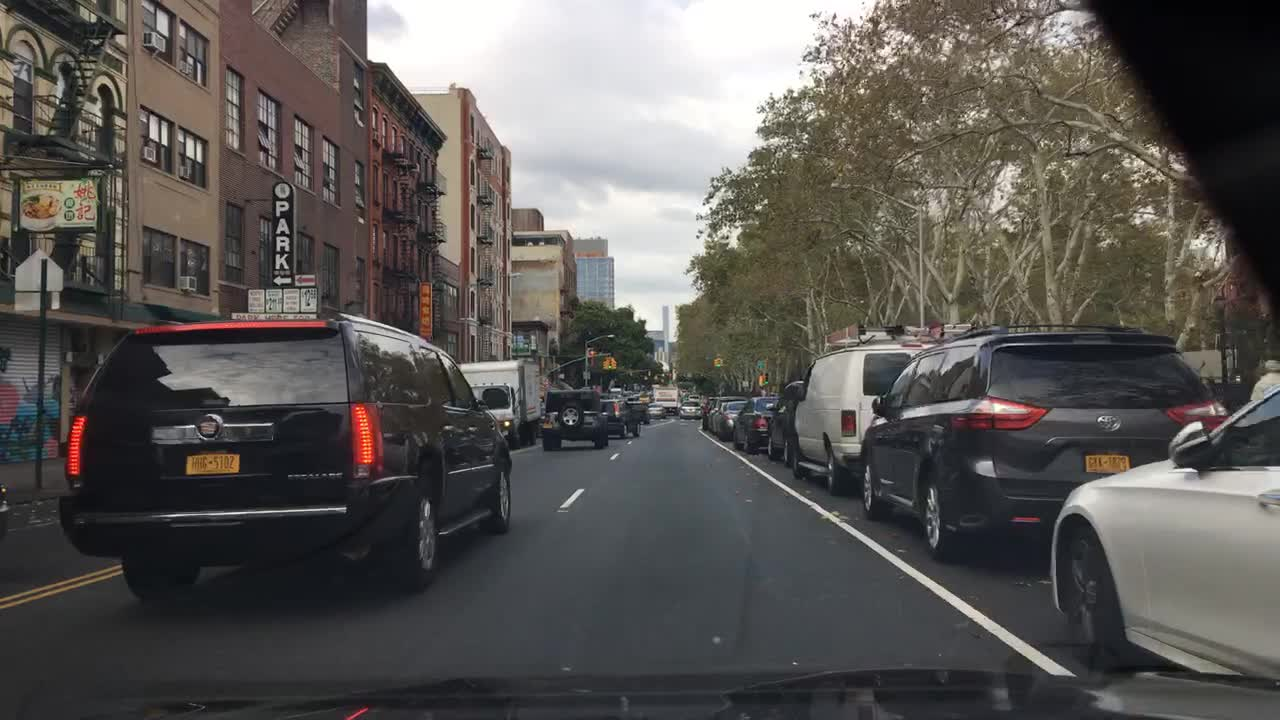car: (56, 310, 513, 604), (857, 324, 1227, 565), (1048, 382, 1278, 682), (788, 318, 978, 492), (541, 386, 610, 451), (766, 373, 813, 466), (730, 385, 788, 453), (715, 396, 754, 443), (707, 394, 746, 435), (599, 399, 640, 436), (699, 394, 723, 429), (598, 384, 635, 402), (0, 480, 9, 546), (626, 399, 649, 423), (678, 395, 702, 418), (649, 403, 668, 419), (604, 386, 621, 399), (638, 388, 650, 403), (686, 392, 701, 399)
person: (1249, 349, 1278, 400)
traffic light: (761, 369, 771, 385), (605, 355, 615, 369), (712, 356, 724, 367)
traffic sign: (14, 250, 61, 314), (581, 369, 591, 384)
truck: (453, 359, 542, 446), (652, 384, 679, 415)
